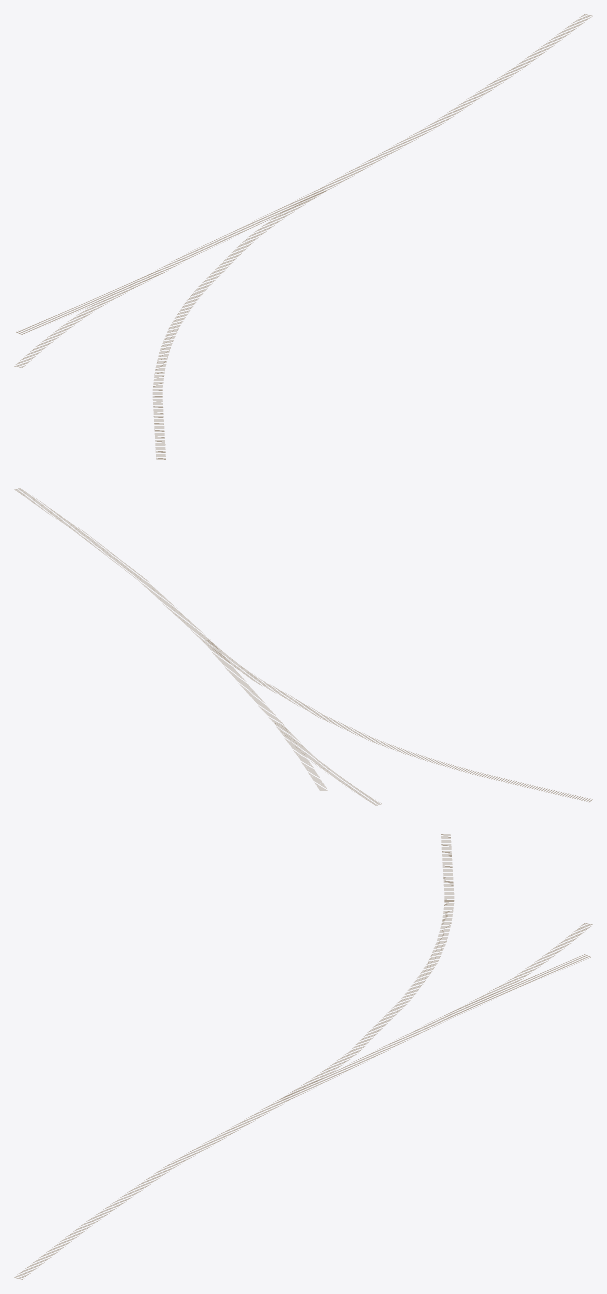
File: c_1625_17828_rail_sleeper.glb
The picture shows the model from 3 angles, top to bottom: view 1: azimuth 90°, elevation 25°; view 2: azimuth 150°, elevation 25°; view 3: azimuth 270°, elevation 25°; orthographic projection. The views are drawn at different scales.
Visible parts, largest first — view 1: geometry_0; view 2: geometry_0; view 3: geometry_0.
Boxes of the visible parts, box(x1,y1,x2,y2) form: geometry_0: box(14, 14, 592, 459); geometry_0: box(14, 488, 592, 805); geometry_0: box(14, 834, 592, 1279).
Bounding box in the file's own units: 256 × 0.8827 × 141.
